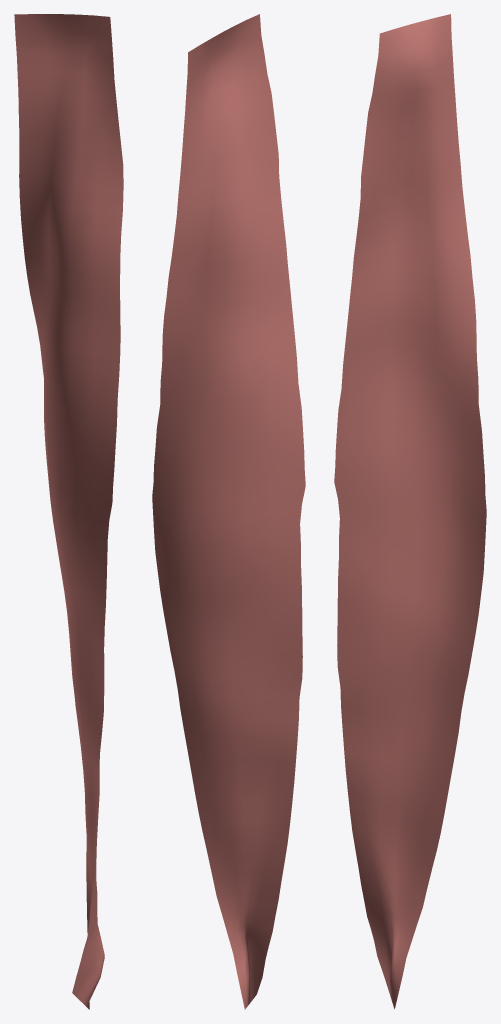
The picture shows the model from 3 angles, left to right: view 1: azimuth 90°, elevation 25°; view 2: azimuth 150°, elevation 25°; view 3: azimuth 330°, elevation 25°; orthographic projection.
Parts seen in each view (by area): view 1: ZA_42930766e55b1608; view 2: ZA_42930766e55b1608; view 3: ZA_42930766e55b1608.
Part boxes in pixels (x1,y1,x2,y2): ZA_42930766e55b1608: (14,14,123,1009); ZA_42930766e55b1608: (152,14,305,1009); ZA_42930766e55b1608: (334,14,486,1009).
Size of the model in its own units: 0.0359 by 0.2674 by 0.0266.
